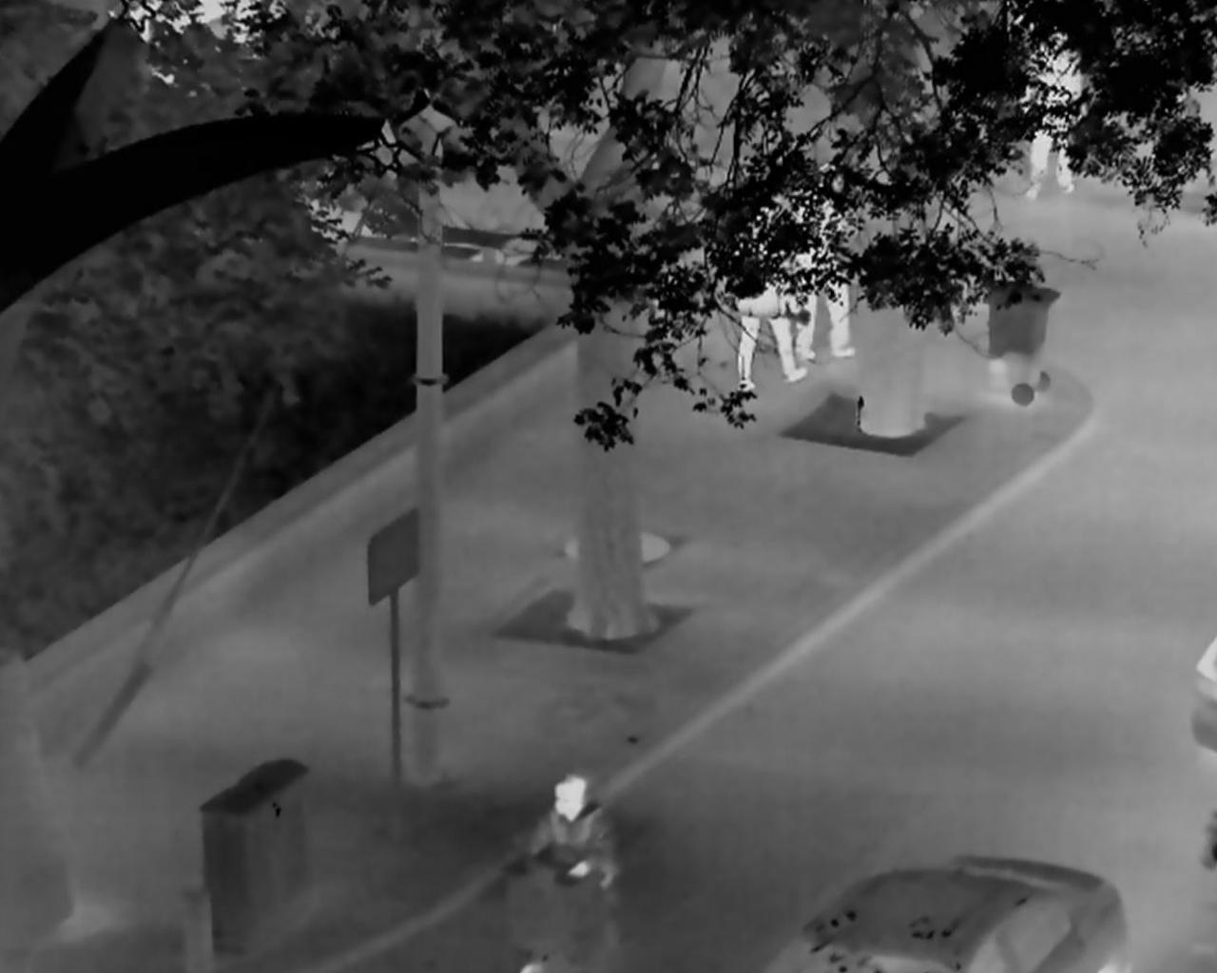person: (527, 773, 622, 947), (733, 193, 807, 391), (794, 163, 858, 363), (1017, 27, 1087, 200)
